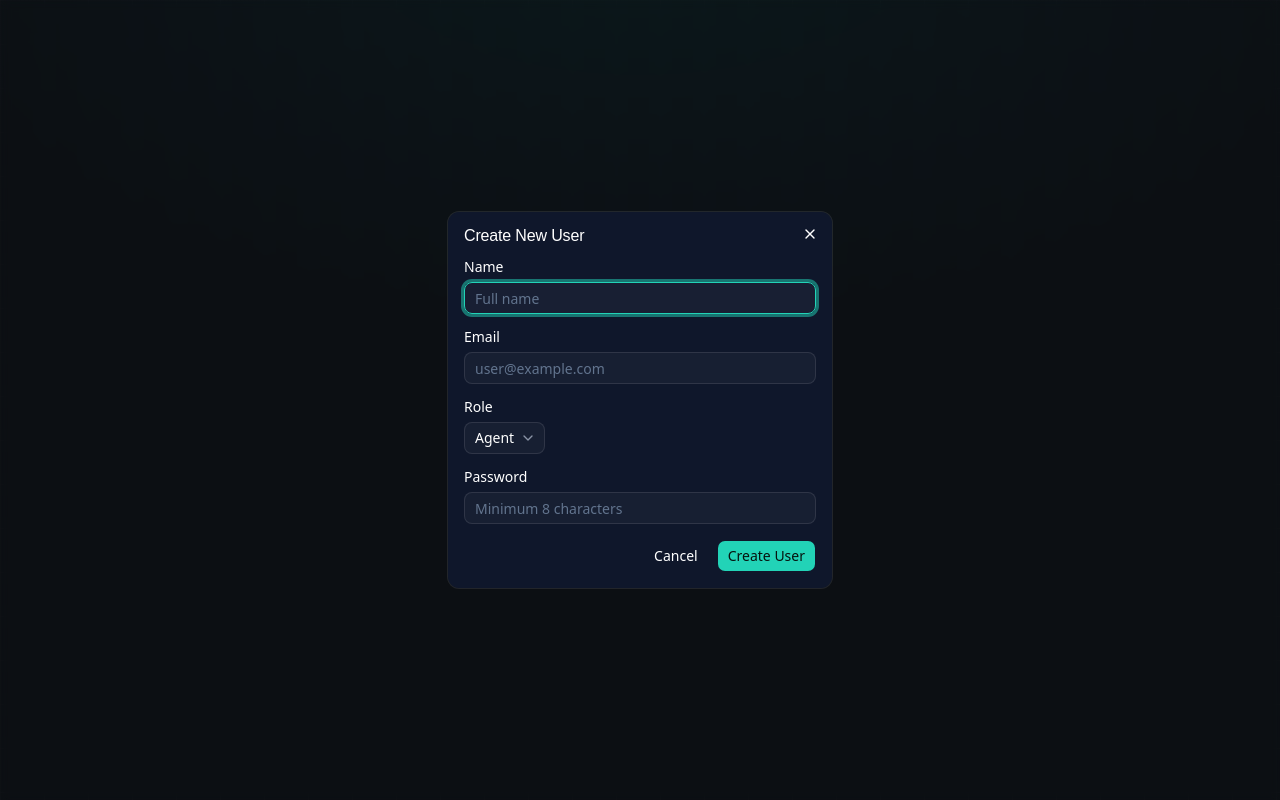
Test case: UserFormDialog — create mode › shows validation error when password is too short
Type "John Doe" into the field labelled "Name". click: (640, 298)
box: [464,282,816,314]
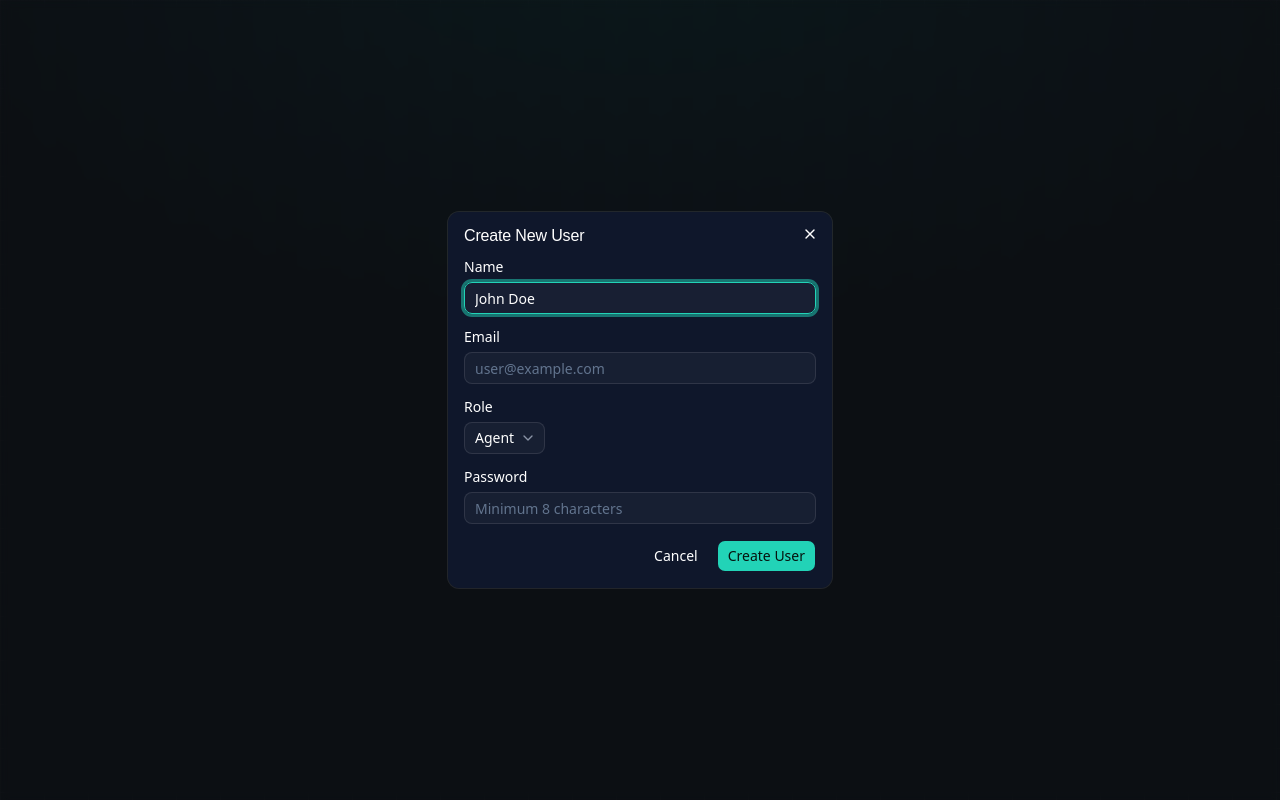
Type "a@b.com" into the field labelled "Email". click: (640, 368)
box: [464,352,816,384]
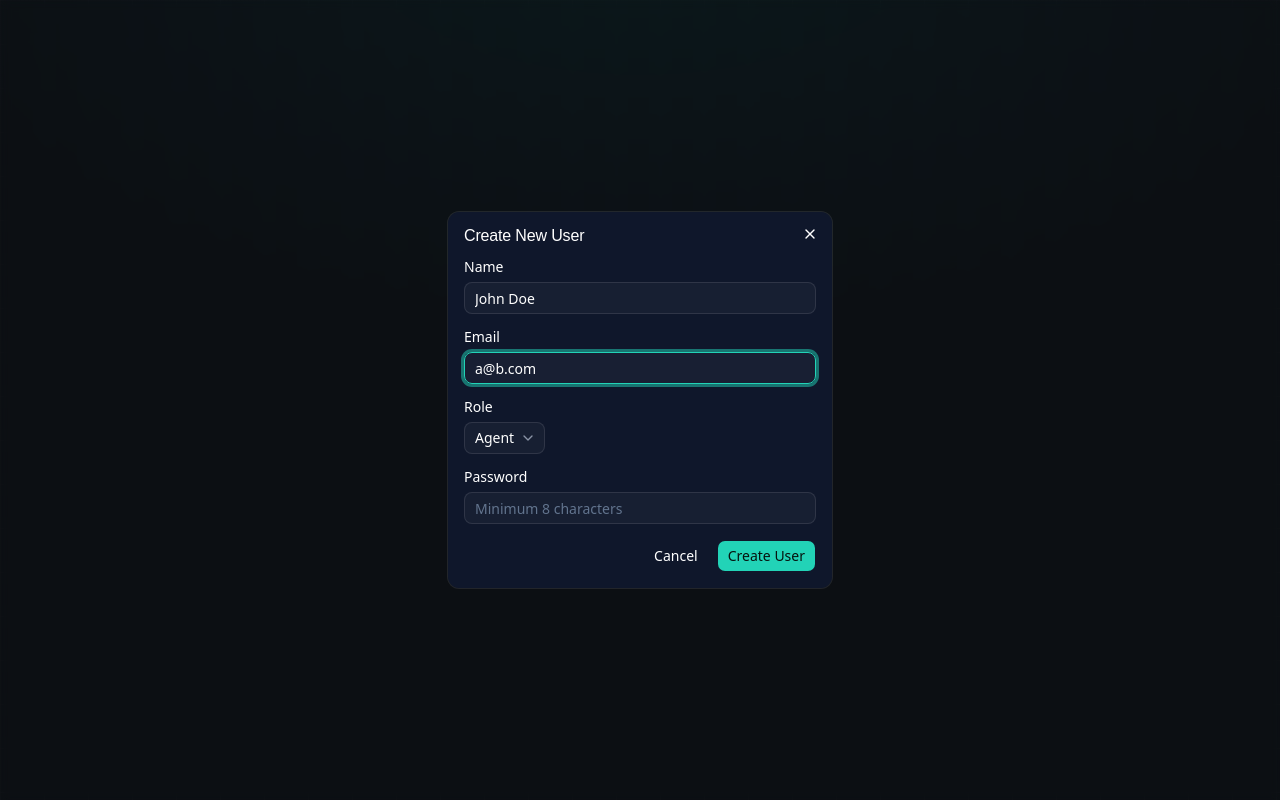
Type "short" into the password field labelled "Password". click: (640, 508)
box: [464,492,816,524]
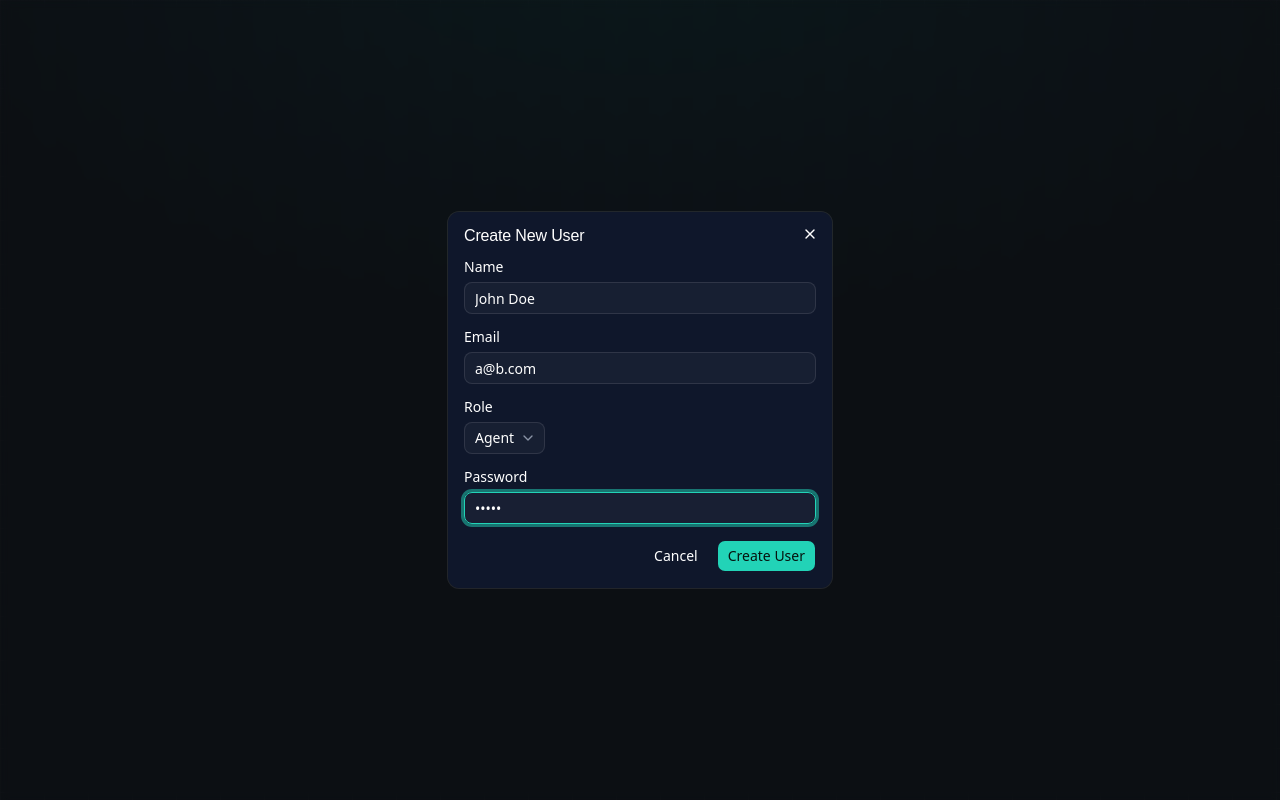
Click the button "Create User". click: (766, 556)
box: [717,540,816,572]
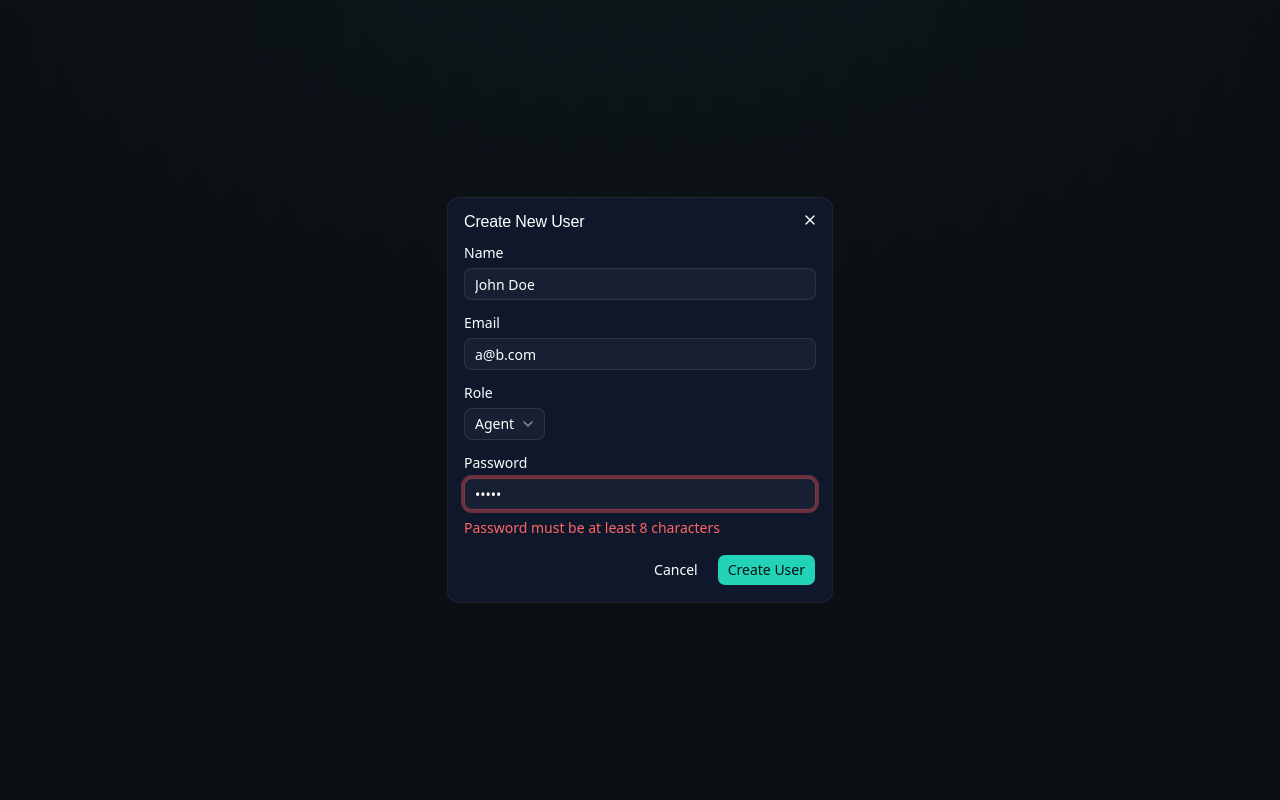
Now the text "Password must be at least 8 characters" is shown, box [464,518,720,537]
